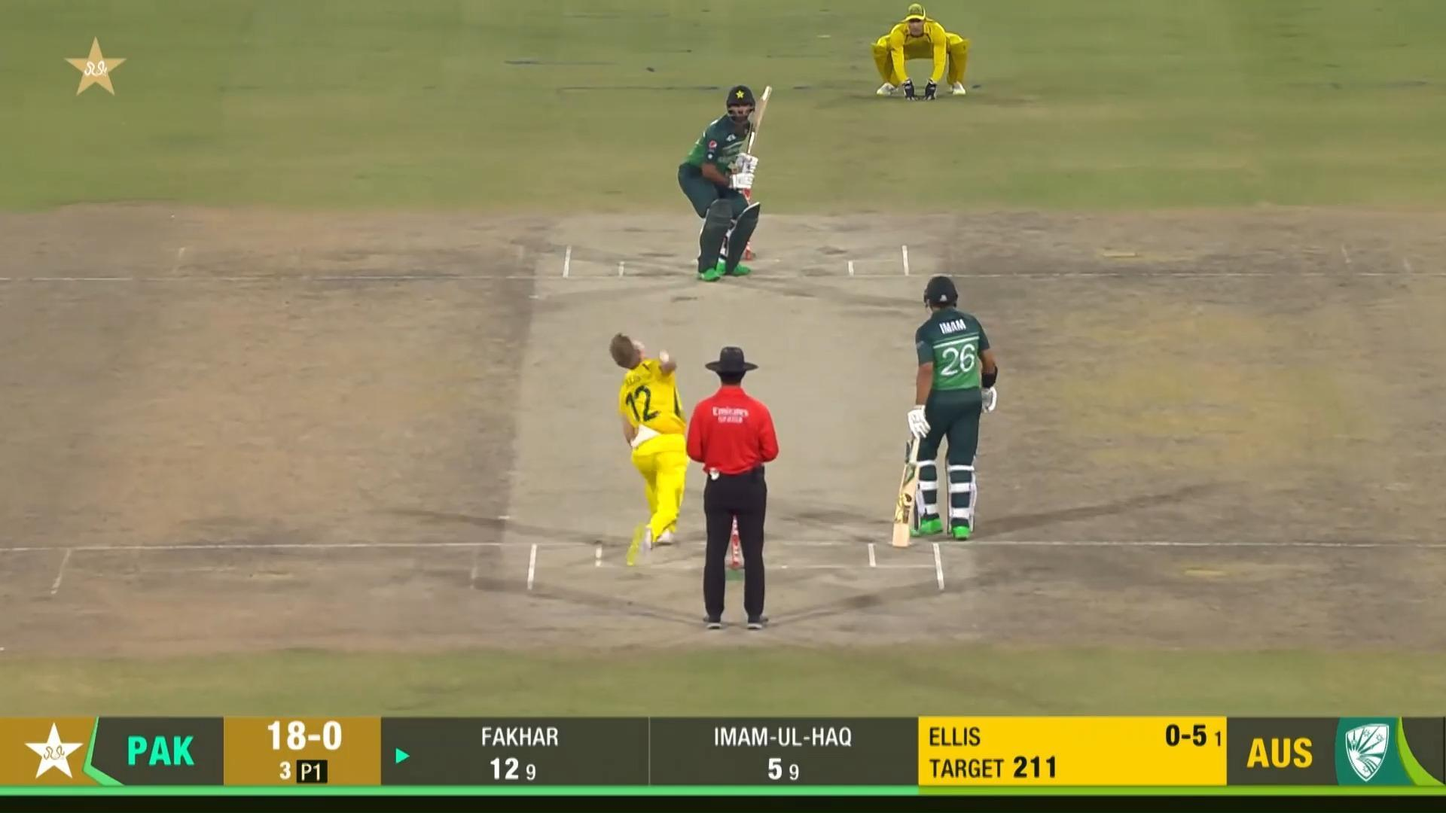BM 1: (677, 83, 777, 283)
BO: (607, 331, 692, 564)
